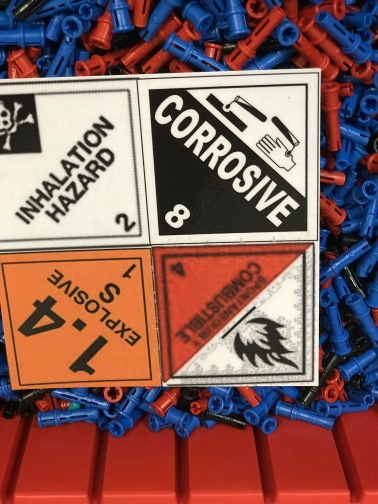Corrosive: (138, 78, 317, 244)
Explosive: (2, 254, 162, 389)
InhalationHazard: (1, 78, 148, 246)
SpontaneouslyCombustible: (154, 247, 315, 384)
